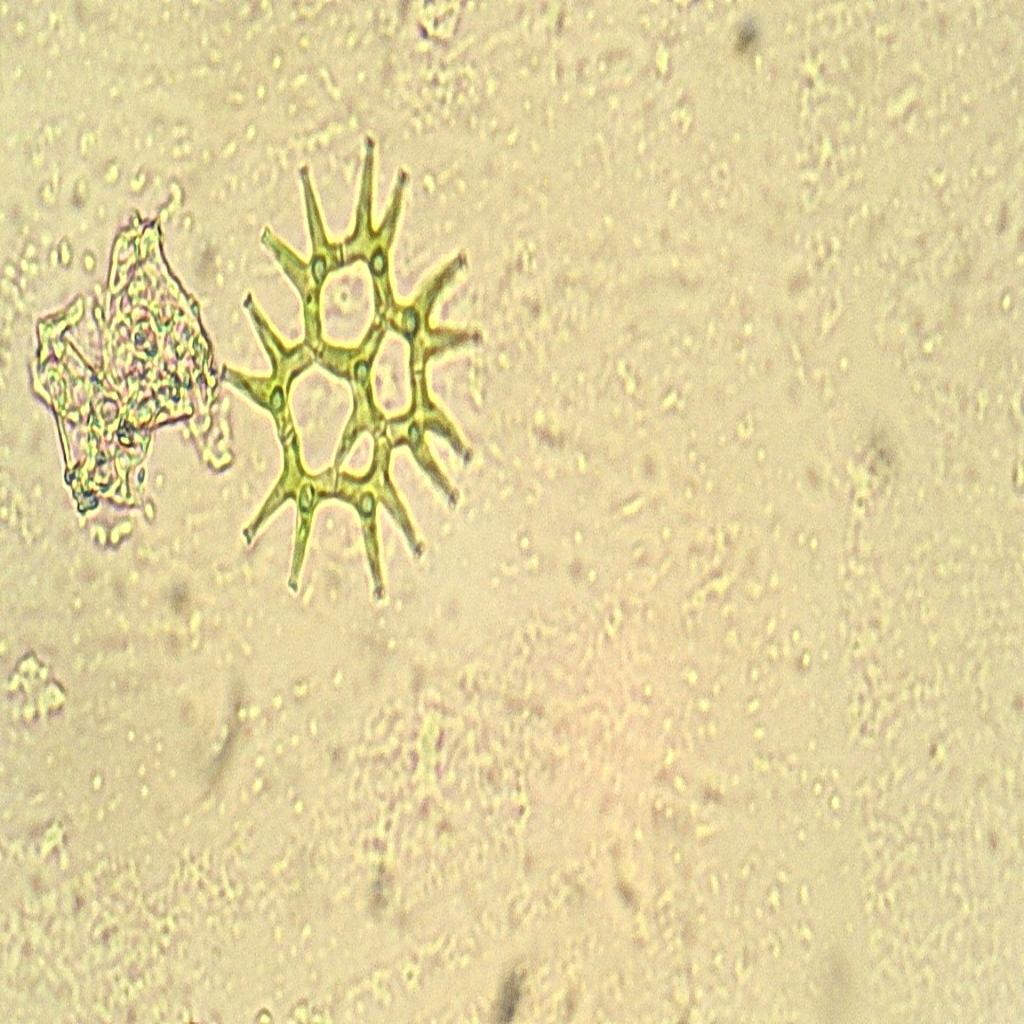Pediastrum_75T: (207, 106, 494, 624)
